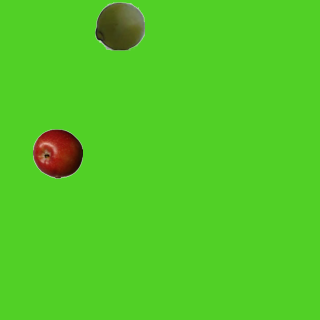Apple Braeburn: (32, 128, 82, 178)
Grape White 4: (94, 0, 144, 50)
